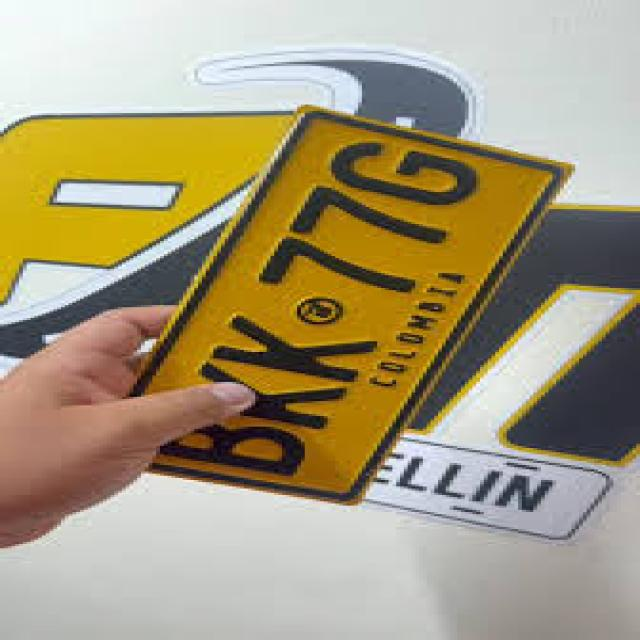placa_moto: (117, 102, 578, 511)
